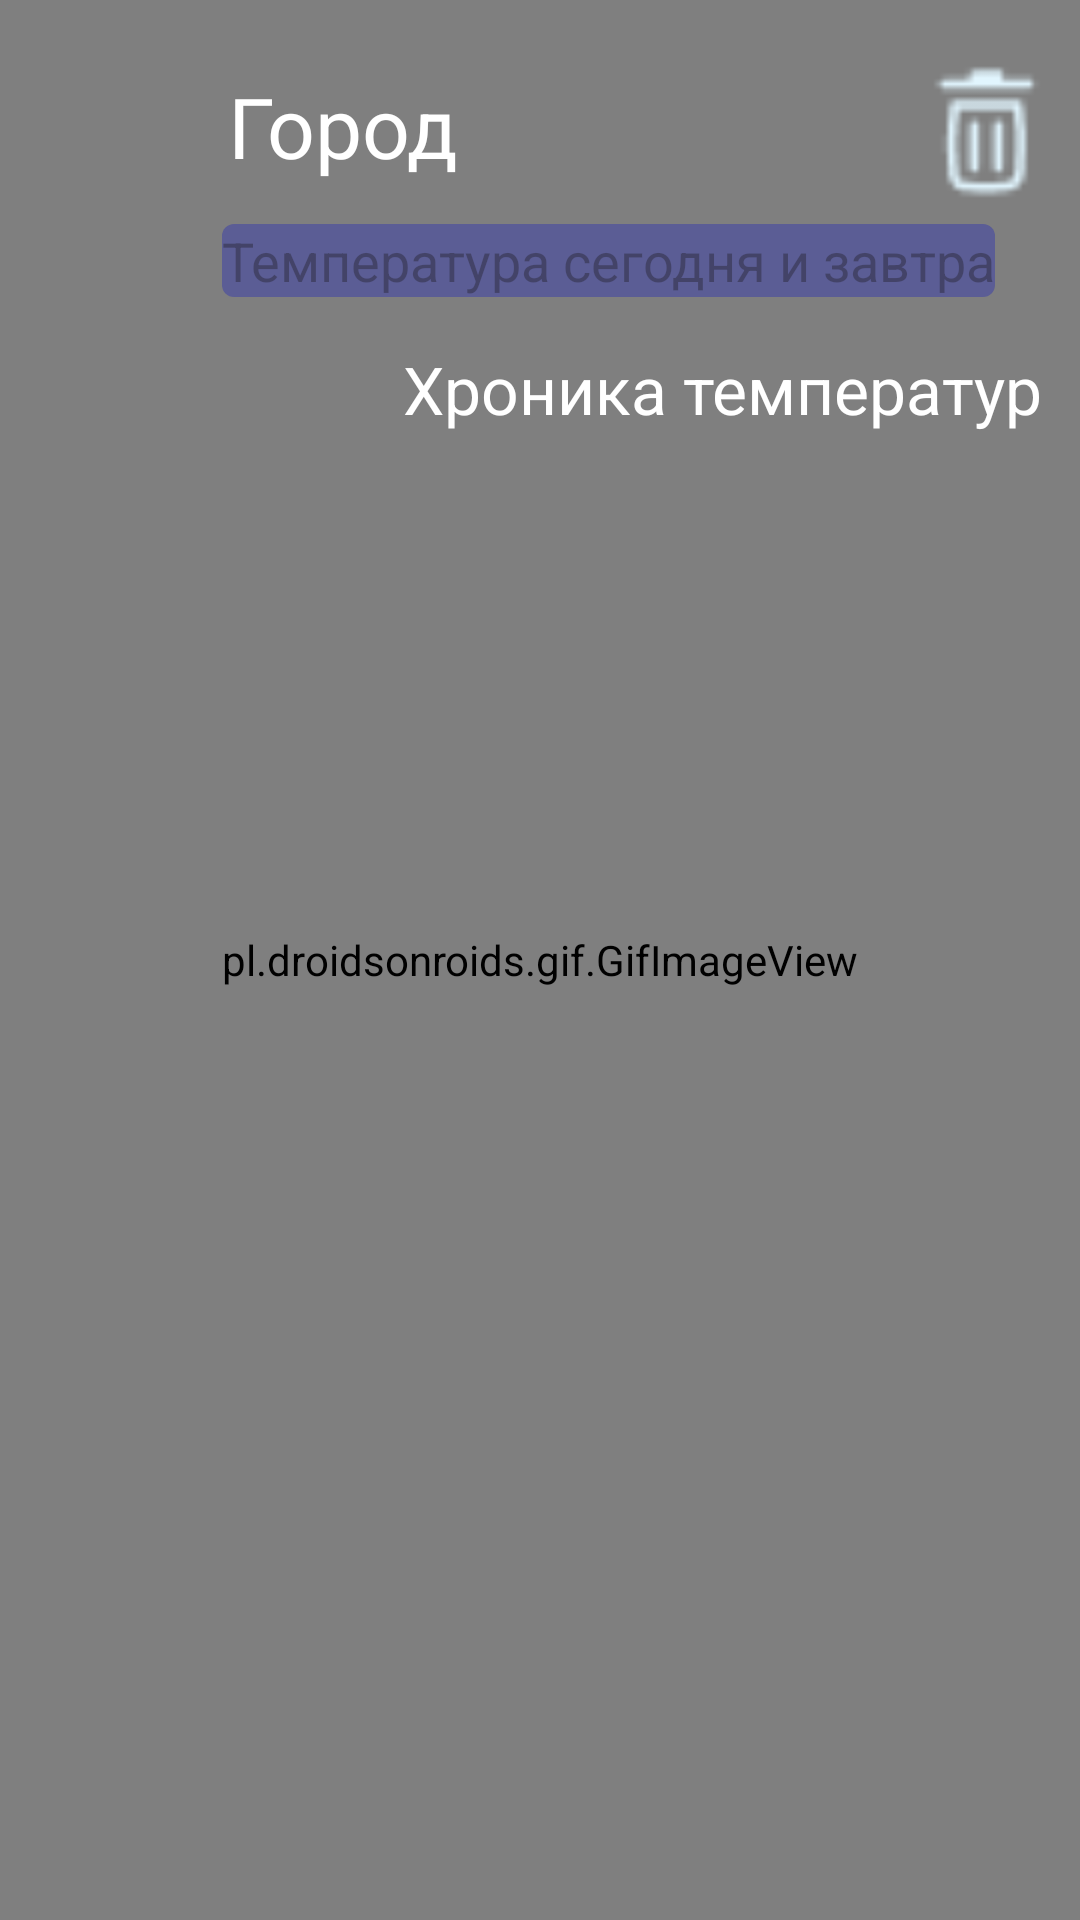

Where icons sit on this 1080 x 1920 app screen, as box=[x1, y1, x2, y2]:
trash: box=[937, 68, 1034, 196]
